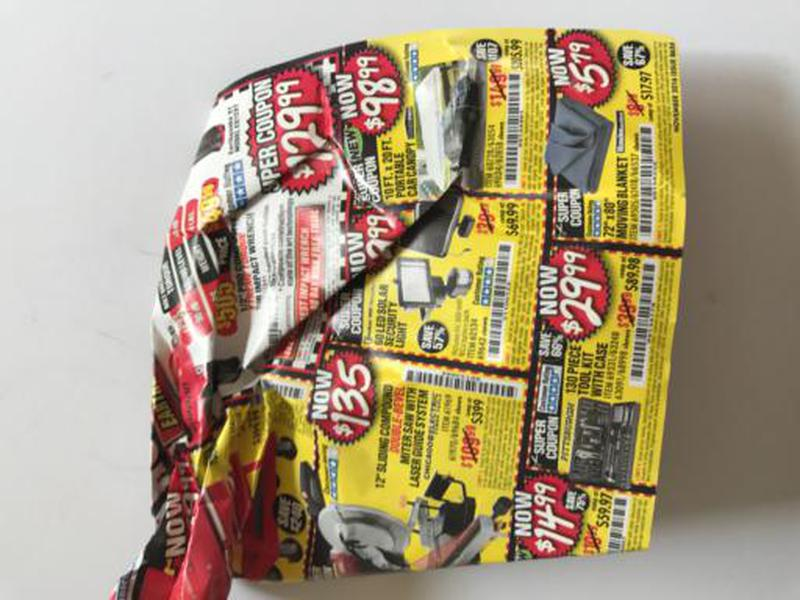paper: (99, 25, 692, 600)
